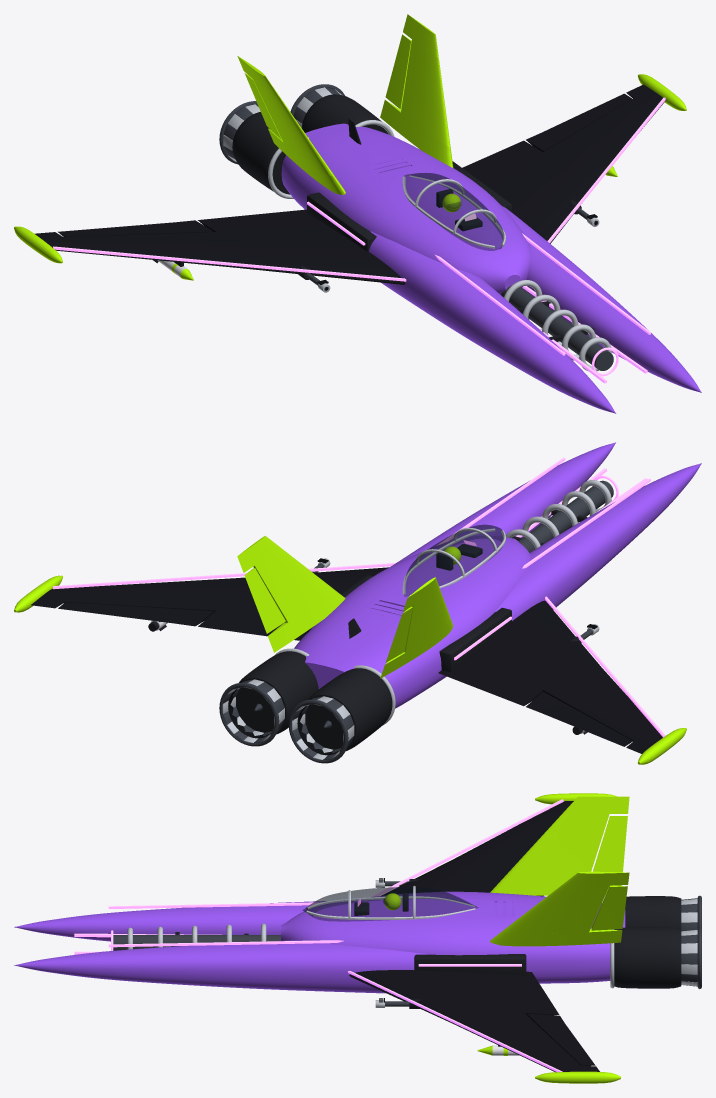
Rendered from arc.glb.
3 views of the same model, one above another, from view 1: azimuth 30°, elevation 25°; view 2: azimuth 150°, elevation 25°; view 3: azimuth 270°, elevation 25° (orthographic). The views are drawn at different scales.
Parts seen in each view (by area): view 1: SHIP; view 2: SHIP; view 3: SHIP.
Boxes of the visible parts, x1,y1,x2,y2 form: SHIP: [14, 14, 701, 413]; SHIP: [14, 442, 701, 764]; SHIP: [14, 793, 701, 1083].
Bounding box in the file's own units: 15.57 × 3.5 × 15.98.
